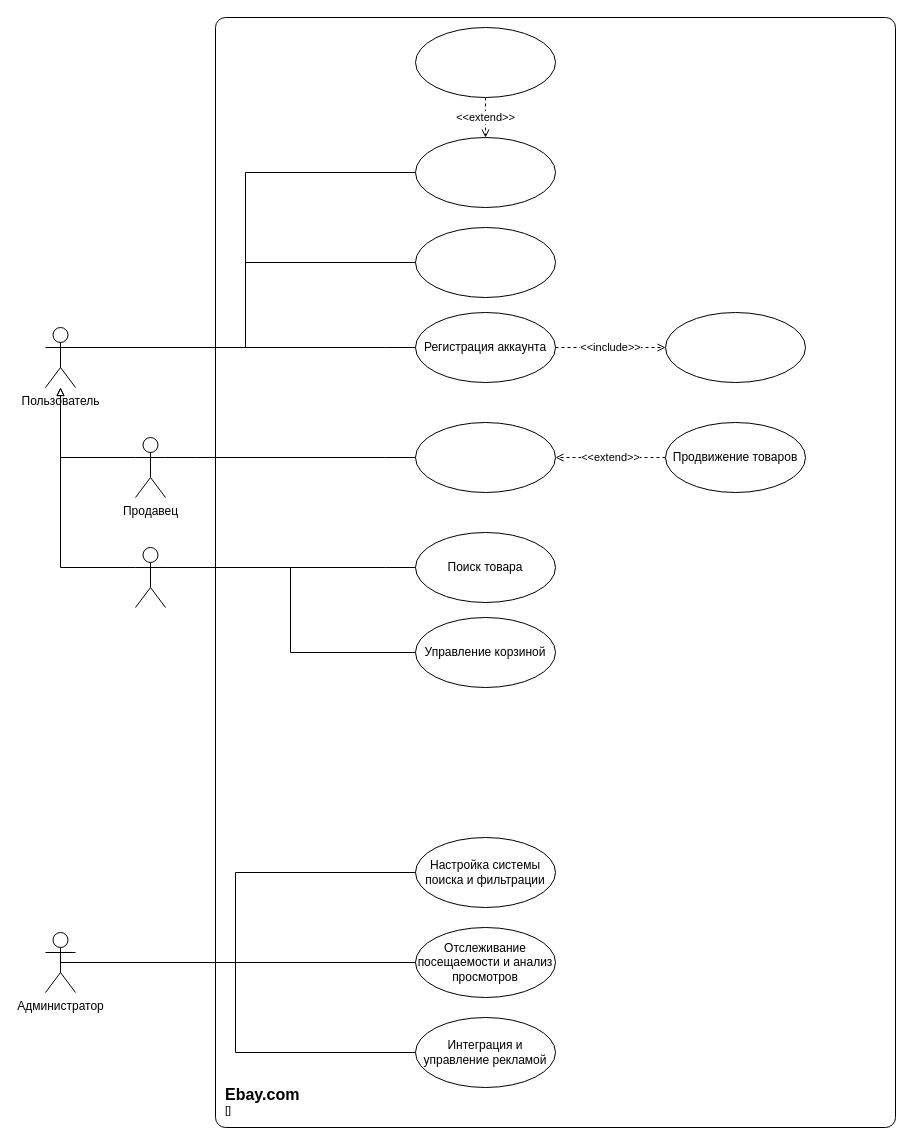
This 913x1145 diagram has some shape labels left out. Here are the shapes that lost their labels. From the top down, the box of each, then its label:
(414, 26, 556, 98): 2FA
(414, 136, 556, 208): Аутентификация
(414, 226, 556, 298): Получение уведомлений
(664, 312, 806, 382): Выбор языка
(414, 422, 556, 492): Выставление товаров
(134, 546, 166, 608): Покупатель
